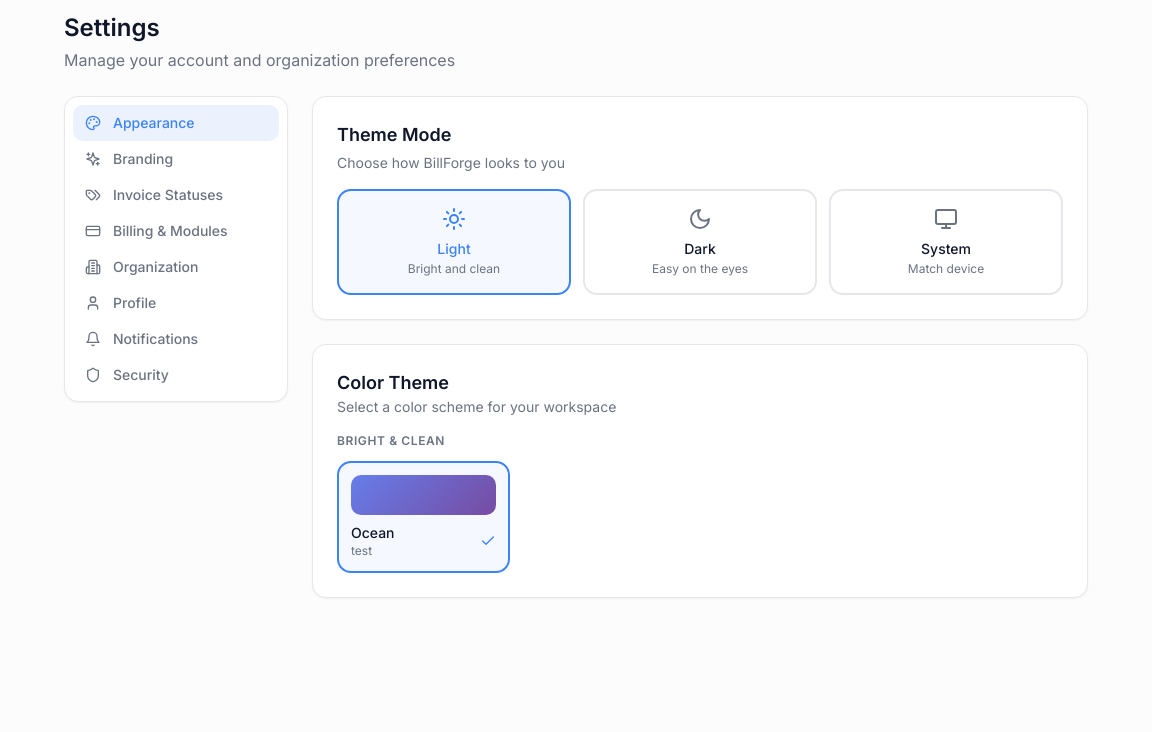
Settings page - non-persistent controls › Profile tab › disables the Save Profile button
The image size is (1152, 732).
Click the button "Profile" at (176, 303), box [73,285,279,321]
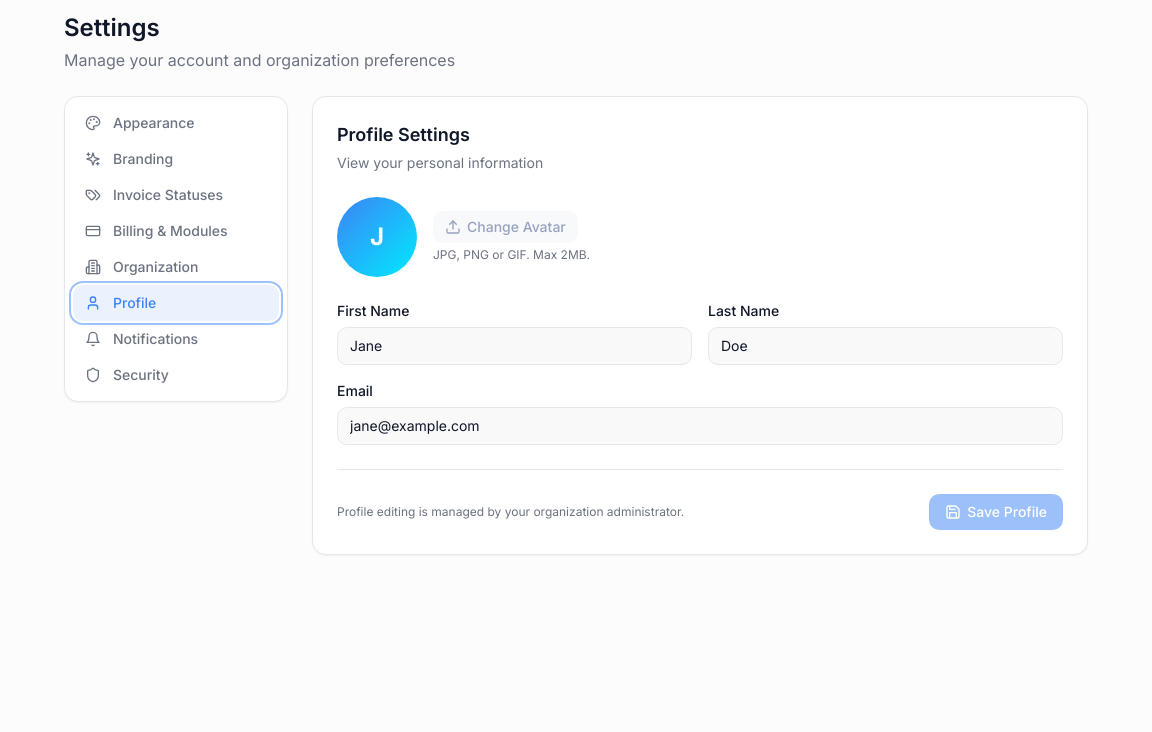
Check: the button "Save Profile" is disabled, box [929,494,1063,530]
